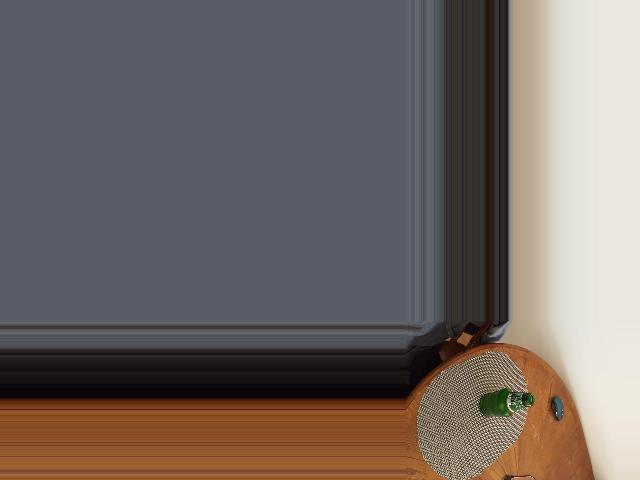beer: (479, 387, 534, 418)
